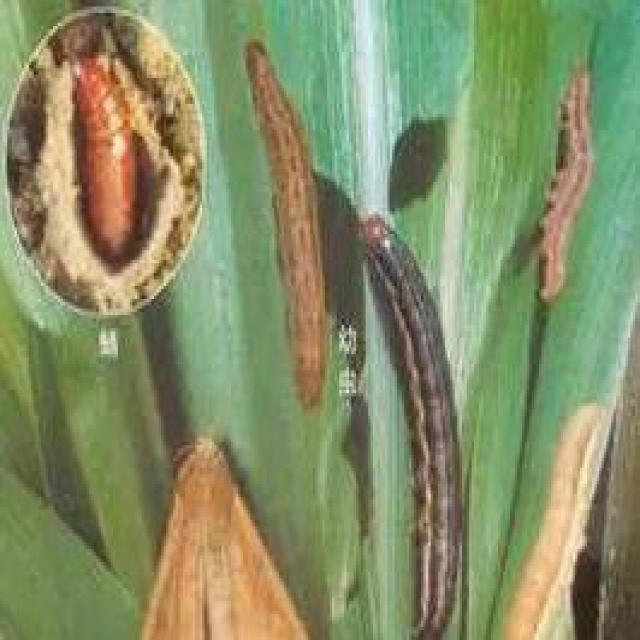armyworm: (348, 202, 478, 638), (234, 37, 333, 423), (499, 388, 619, 638), (526, 53, 603, 313)
